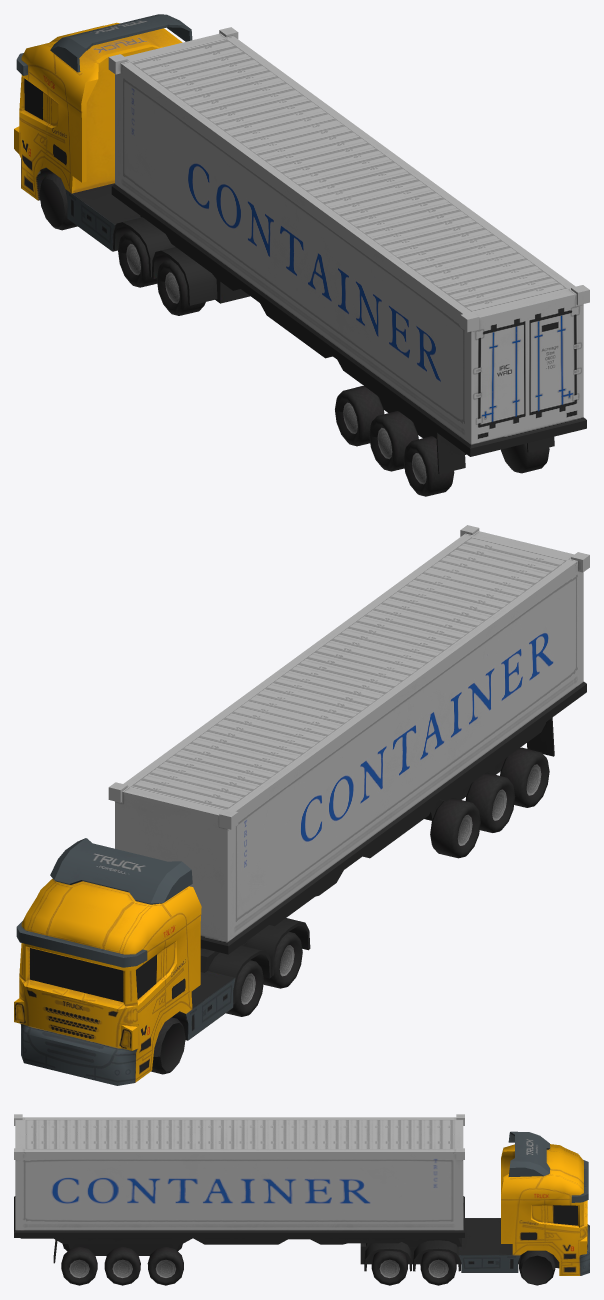
The model's file is Truck_OP.fbx.
The picture shows the model from 3 angles, top to bottom: view 1: azimuth 30°, elevation 25°; view 2: azimuth 150°, elevation 25°; view 3: azimuth 270°, elevation 25°; orthographic projection. The views are drawn at different scales.
Parts seen in each view (by area): view 1: Truck, Wheel.011, Wheel.010, T_Wheel_FL, Wheel.006; view 2: Truck, Wheel.011, T_Wheel_FL, Wheel.010; view 3: Truck, Wheel.006, T_Wheel_FR, Wheel.009.
Boxes of the visible parts, <box> form: Truck: <box>14,14,589,474</box>; Wheel.011: <box>403,436,454,496</box>; Wheel.010: <box>156,259,205,315</box>; T_Wheel_FL: <box>39,173,77,230</box>; Wheel.006: <box>501,443,549,473</box>; Truck: <box>14,525,589,1085</box>; Wheel.011: <box>500,747,549,807</box>; T_Wheel_FL: <box>151,1017,185,1074</box>; Wheel.010: <box>263,932,302,988</box>; Truck: <box>14,1114,589,1285</box>; Wheel.006: <box>61,1246,97,1285</box>; T_Wheel_FR: <box>519,1250,555,1285</box>; Wheel.009: <box>371,1251,407,1285</box>.
Size of the model in its own units: 2.5 by 4.13 by 15.98.
Materials: 1 (1 with a texture image).
